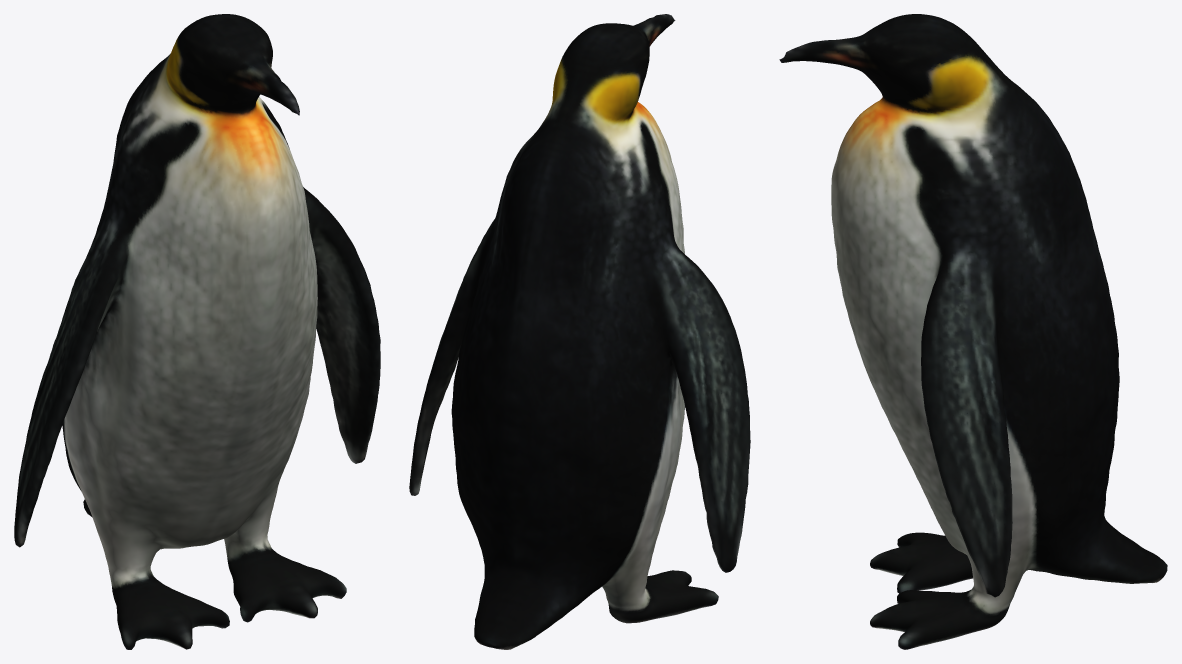
The model's file is asset.glb.
The picture shows the model from 3 angles, left to right: view 1: azimuth 30°, elevation 25°; view 2: azimuth 150°, elevation 25°; view 3: azimuth 270°, elevation 25°; orthographic projection. The views are drawn at different scales.
Bounding box in the file's own units: 0.5624 × 0.9228 × 0.5589.
1 material, 1 textured.
